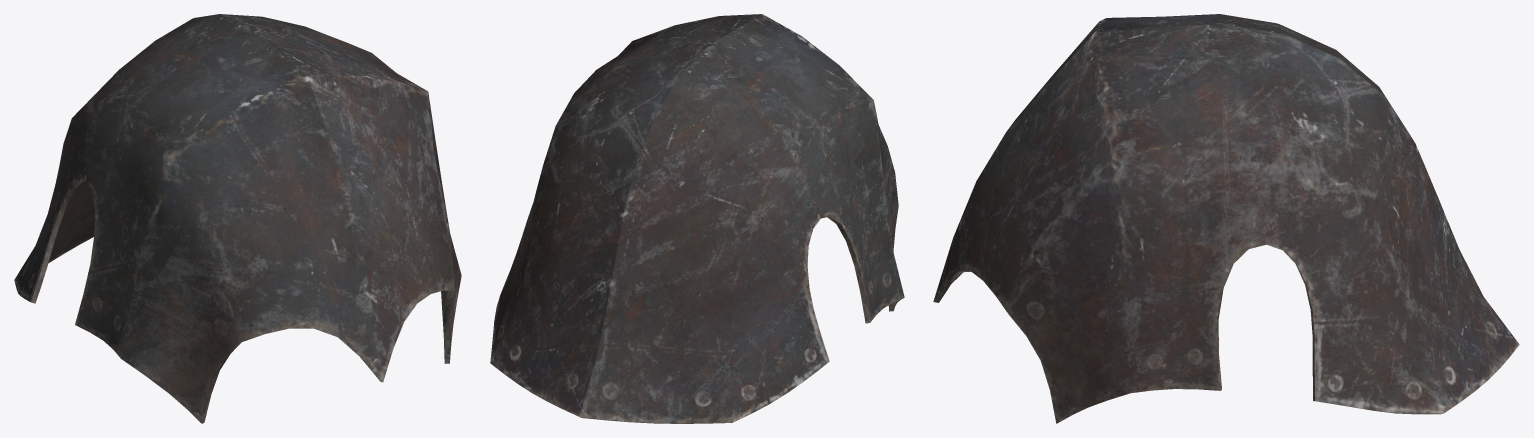
The model's file is sk_dg_uruk_helmet_light_b.fbx.
3 views of the same model, side by side, from view 1: azimuth 30°, elevation 25°; view 2: azimuth 150°, elevation 25°; view 3: azimuth 270°, elevation 25° (orthographic). The views are drawn at different scales.
Parts seen in each view (by area): view 1: sk_dg_uruk_helmet_light_b; view 2: sk_dg_uruk_helmet_light_b; view 3: sk_dg_uruk_helmet_light_b.
Part boxes in pixels (bbox=[...]): sk_dg_uruk_helmet_light_b: bbox=[14, 14, 461, 423]; sk_dg_uruk_helmet_light_b: bbox=[490, 14, 904, 423]; sk_dg_uruk_helmet_light_b: bbox=[933, 14, 1519, 423].
Size of the model in its own units: 0.2306 by 0.3111 by 0.1962.
Materials: 1 (1 with a texture image).
